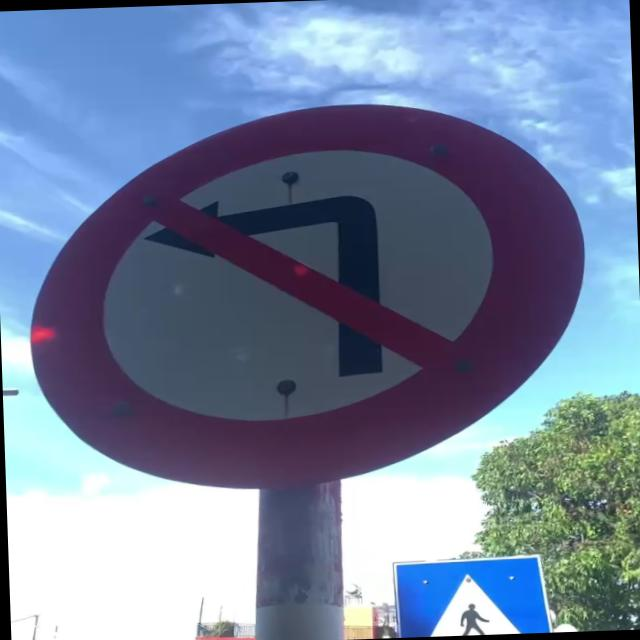Cam_Re_Trai: (23, 92, 588, 504)
